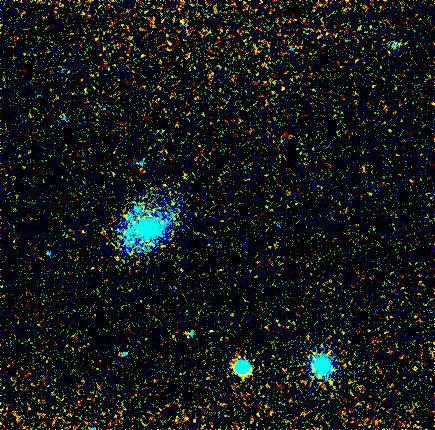star: (401, 353, 431, 383)
